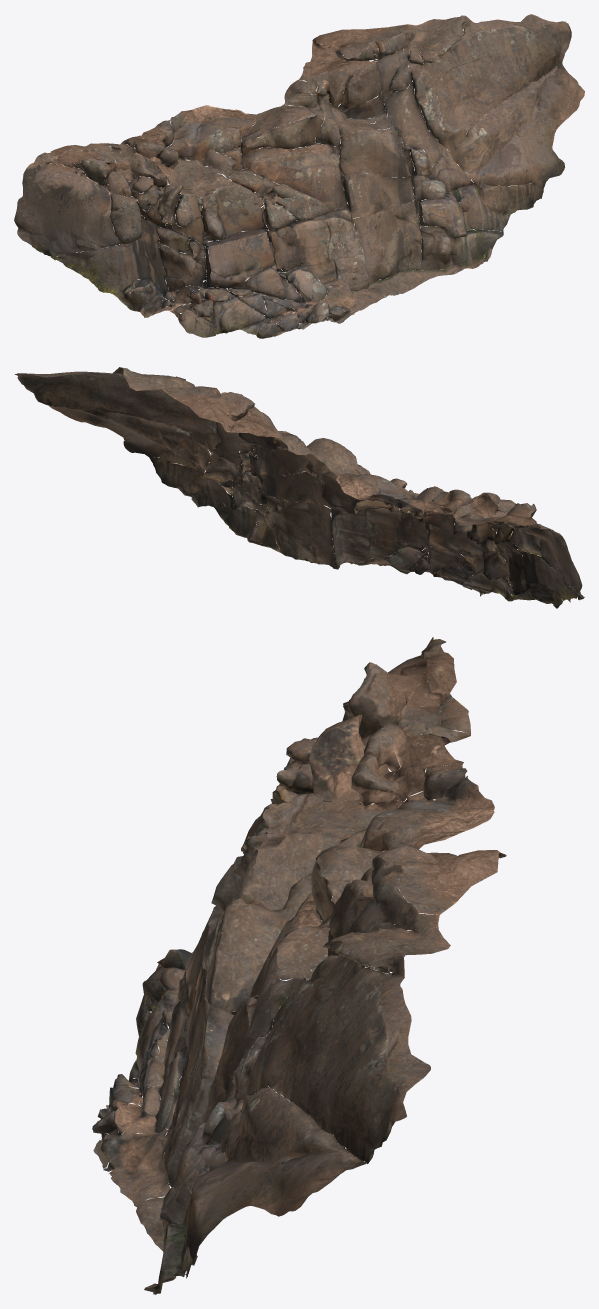
File: namaqualand_cliff_02_LOD1.fbx
The picture shows the model from 3 angles, top to bottom: view 1: azimuth 30°, elevation 25°; view 2: azimuth 150°, elevation 25°; view 3: azimuth 270°, elevation 25°; orthographic projection. The views are drawn at different scales.
Parts seen in each view (by area): view 1: namaqualand_cliff_02.001; view 2: namaqualand_cliff_02.001; view 3: namaqualand_cliff_02.001.
Part boxes in pixels (<box>): namaqualand_cliff_02.001: <box>14,14,584,338</box>; namaqualand_cliff_02.001: <box>14,367,584,608</box>; namaqualand_cliff_02.001: <box>92,637,506,1294</box>.
Size of the model in its own units: 20.22 by 6.6 by 7.2.
